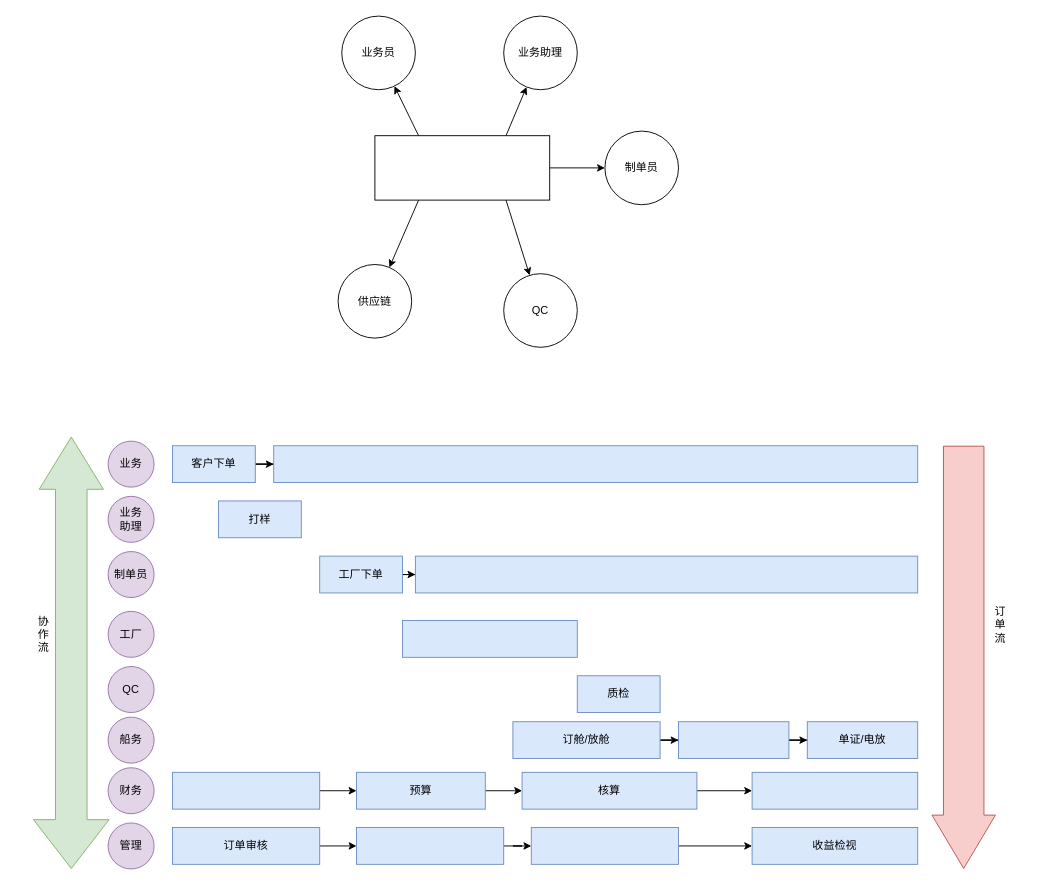
The diagram is 1043 pixels wide and 885 high, and some of its shapes have lost their labels. The centre of each missing label's shape, as x and y in pixels:
OrderList: the point at 462,167
业务跟单: the point at 595,464
决算: the point at 834,790
出货: the point at 733,740
合同审批: the point at 604,845
在货跟单: the point at 666,574
大货生产: the point at 489,638
概算: the point at 246,790
生产单审核: the point at 430,845
